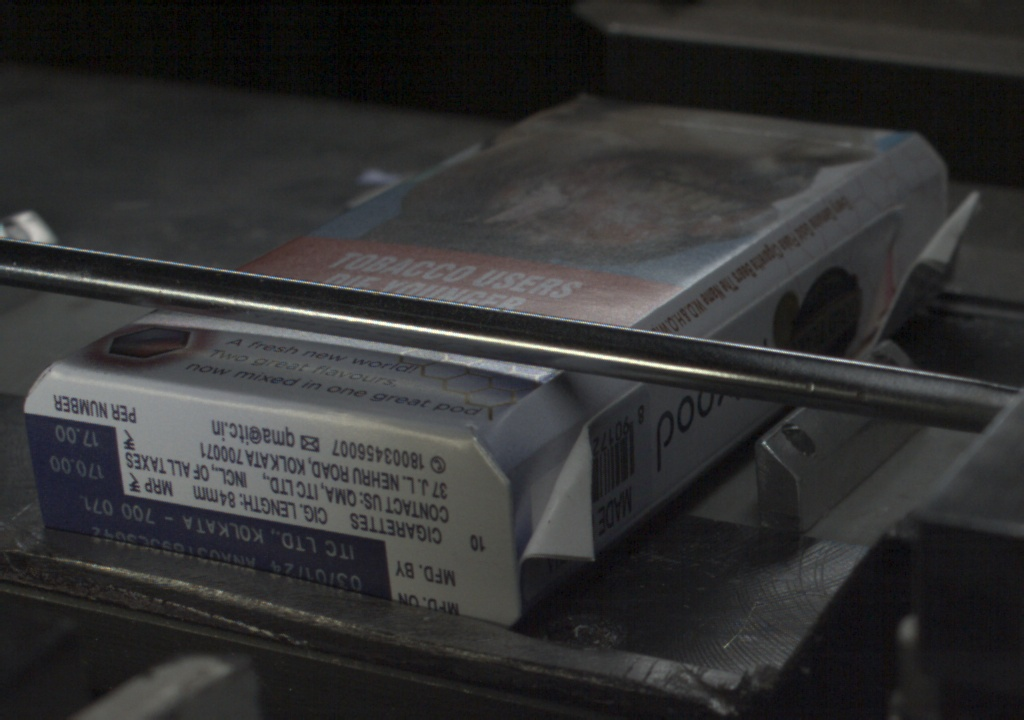g_bottom: (23, 366, 507, 631)
g_label: (32, 488, 388, 603)
g_lmiter: (803, 201, 897, 268), (708, 268, 801, 335)
ng_lmiter: (522, 415, 600, 565)
ng_miter: (901, 165, 981, 309)
price: (30, 421, 120, 487)
